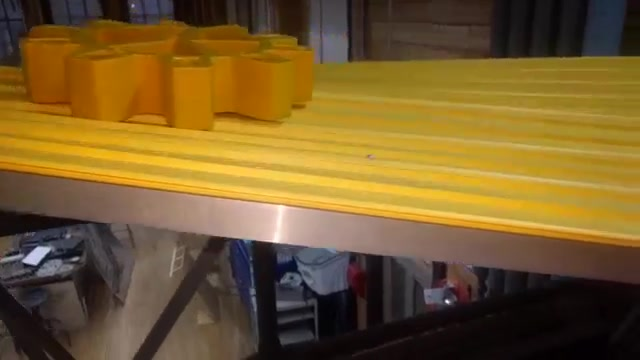gear: (21, 10, 322, 138)
